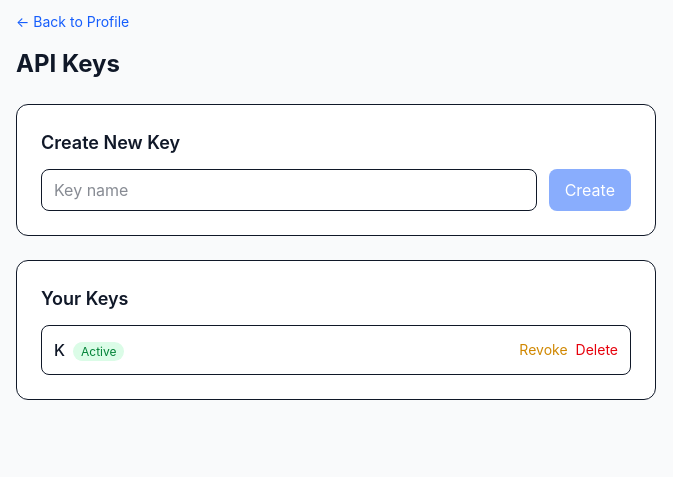
Test case: ApiKeysPage › handles revoke error
Click the button "Revoke" at (543,350), box 519,340 -> 568,360
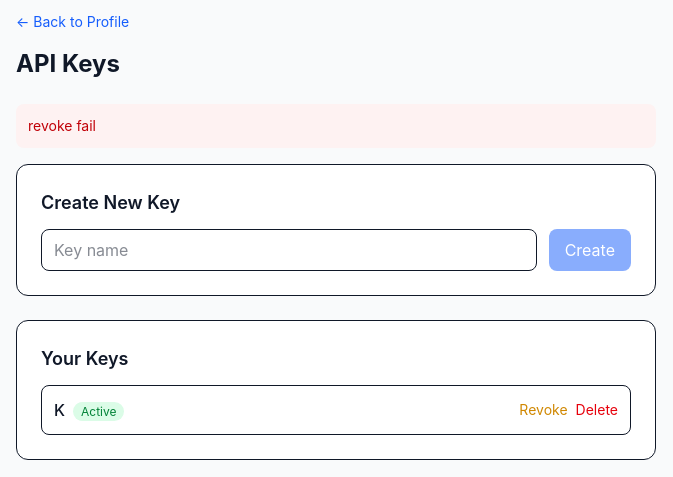
expect the message reads "revoke fail": met, box 28,117 -> 96,134
